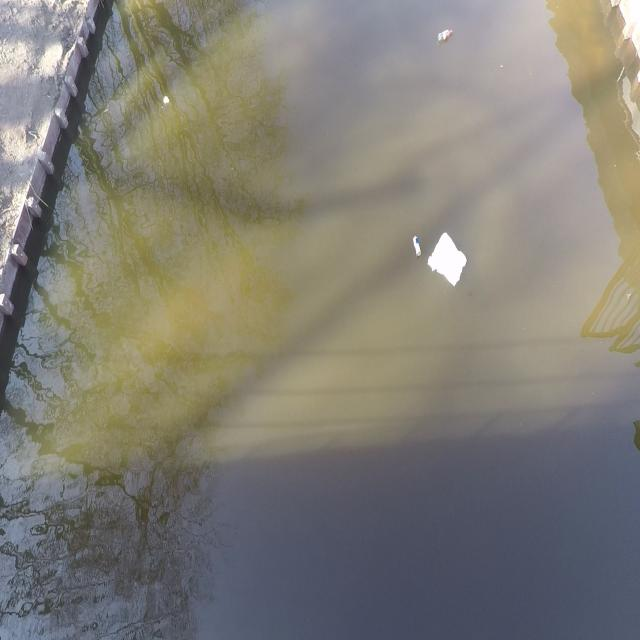Autre plastique: (425, 225, 474, 292)
Bouteille plastique: (436, 28, 456, 48)
Non plastique: (412, 231, 425, 266)
